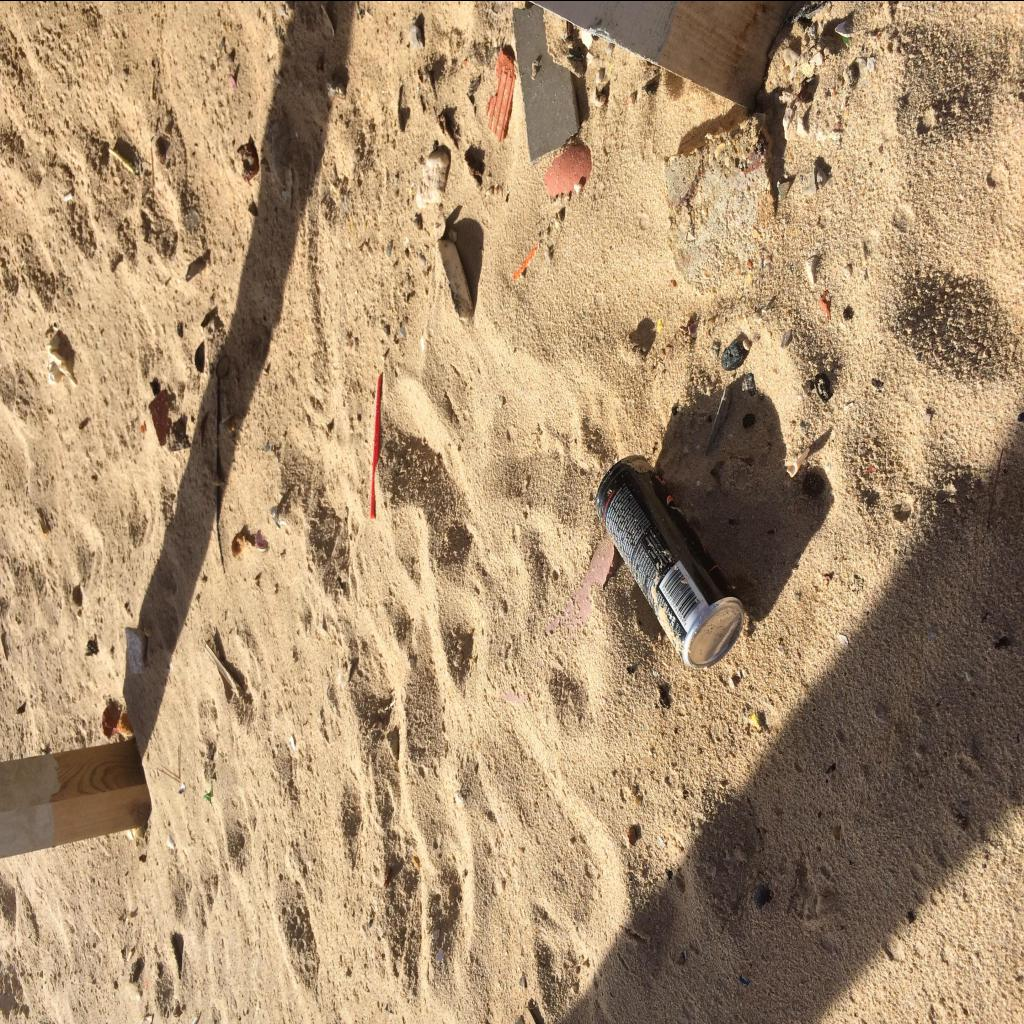Drink can: (596, 454, 744, 668)
Metal bottle cap: (256, 529, 270, 551)
Plastic straw: (370, 374, 382, 518)
Unlabeled litter: (45, 326, 78, 386)
